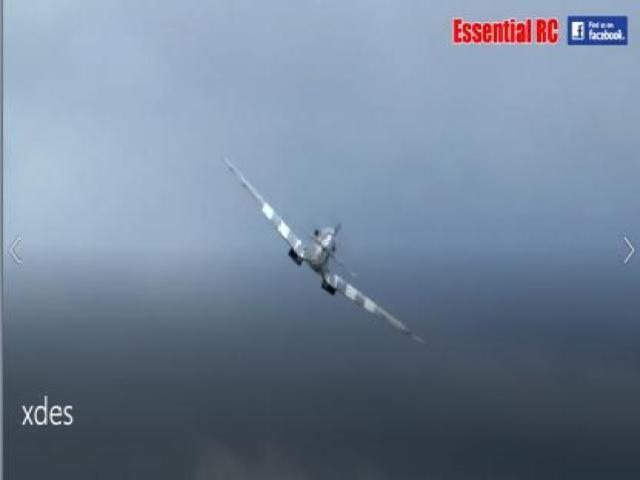uav: (222, 155, 420, 340)
